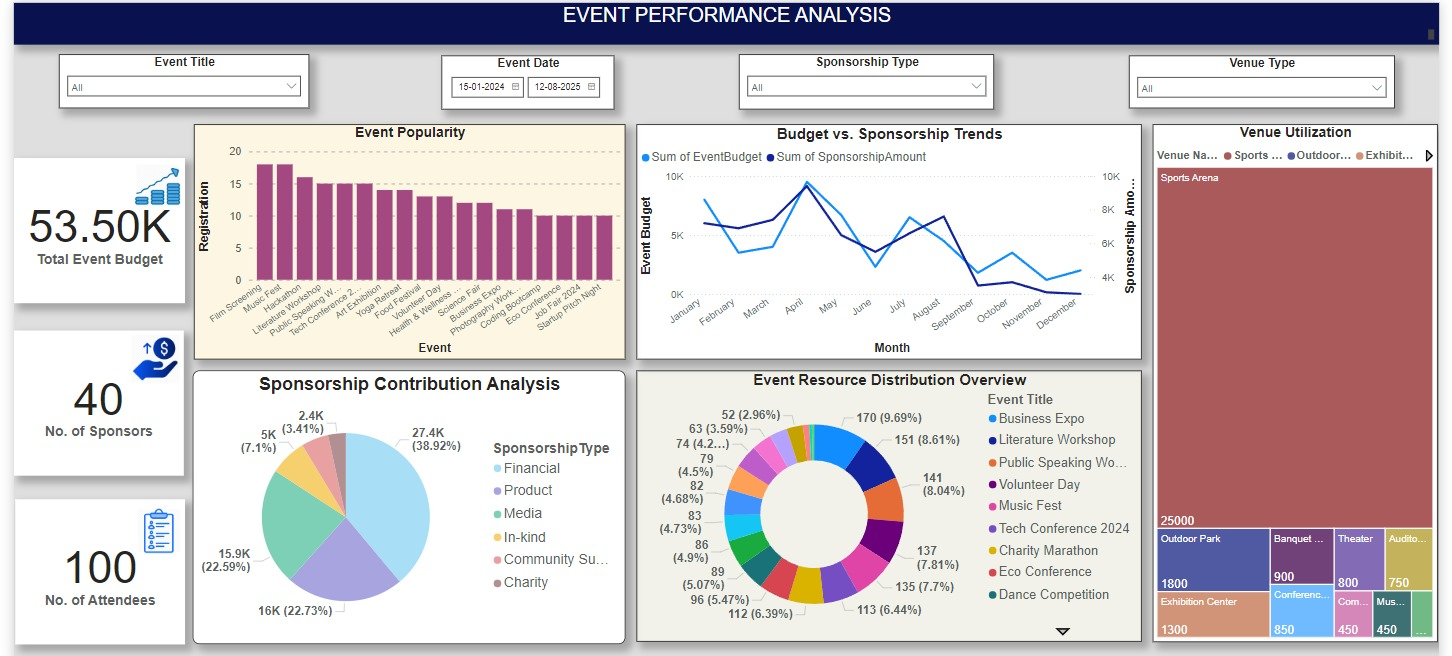

Layout of this report page (visuals, bound fields, positions):
{"tool":"powerbi","page":{"name":"Dashboard","canvas":[1900,880],"ordinal":5},"visuals":[{"type":"textbox","title":" EVENT PERFORMANCE ANALYSIS","box":[0,0,1900,55],"z":0},{"type":"slicer","title":"Event Title","fields":{"Values":["Event.EventTitle"]},"box":[59.3,68.5,333.3,72.2],"z":1000},{"type":"slicer","title":"Venue Type","fields":{"Values":["VenueType.VenueTypeName"]},"box":[1486,70,354,70],"z":2000},{"type":"slicer","title":"Event Date","fields":{"Values":["Event.StartDate"]},"box":[570,70,230,71.7],"z":3000},{"type":"slicer","title":"Sponsorship Type","fields":{"Values":["EventSponsor.SponsorshipType"]},"box":[966.7,68.3,340,73.3],"z":4000},{"type":"card","fields":{"Values":["Sum(Event.EventBudget)"]},"box":[0,206.7,228.3,193.3],"z":5000},{"type":"card","title":"Count Of Attendee","fields":{"Values":["CountNonNull(Attendance.AttendanceID)"]},"box":[1.7,661.7,226.7,193.3],"z":6000},{"type":"card","fields":{"Values":["CountNonNull(EventSponsor.SponsorID)"]},"box":[0,436.7,226.7,193.3],"z":7000},{"type":"image","box":[158.3,661.7,70,83.3],"z":8000},{"type":"image","box":[156.7,198.3,70,91.7],"z":9000},{"type":"image","box":[150,403.3,76.7,141.7],"z":10000},{"type":"donutChart","title":"Event Resource Distribution Overview","fields":{"Y":["Sum(EventResourceAllocation.AllocatedQuantity)"],"Category":["Event.EventTitle"]},"box":[830,490,673.3,361.7],"z":11000},{"type":"lineChart","title":"Budget vs. Sponsorship Trends","fields":{"Y":["Sum(Event.EventBudget)"],"Category":["Event.EndDate.Variation.Date Hierarchy.Month"],"Y2":["Sum(EventSponsor.SponsorshipAmount)"]},"box":[830,161.7,673.3,313.3],"z":12000},{"type":"columnChart","title":"Event Popularity","fields":{"Category":["Event.EventTitle"],"Y":["CountNonNull(Registration.RegistrationID)"]},"box":[240,161.7,575,313.3],"z":13000},{"type":"treemap","title":"Venue Utilization","fields":{"Values":["Sum(Venue.VenueCapacity)"],"Group":["VenueType.VenueTypeName"]},"box":[1518.3,161.7,380,690],"z":14000},{"type":"pieChart","title":"Sponsorship Contribution Analysis","fields":{"Category":["EventSponsor.SponsorshipType"],"Y":["Sum(EventSponsor.SponsorshipAmount)"]},"box":[238.3,490,576.7,365],"z":15000}]}

Visuals, with their boxes in screenshot pixels (x1, y1, x2, y2), scaled from the page's 1900x880 canvas onto the 1452x656 screenshot:
" EVENT PERFORMANCE ANALYSIS" textbox: bbox=(0, 0, 1451, 41)
"Event Title" slicer: bbox=(45, 51, 300, 105)
"Venue Type" slicer: bbox=(1136, 52, 1406, 104)
"Event Date" slicer: bbox=(436, 52, 611, 106)
"Sponsorship Type" slicer: bbox=(739, 51, 999, 106)
card - Sum(Event.EventBudget): bbox=(0, 154, 174, 298)
"Count Of Attendee" card: bbox=(1, 493, 175, 637)
card - CountNonNull(EventSponsor.SponsorID): bbox=(0, 326, 173, 470)
image: bbox=(121, 493, 174, 555)
image: bbox=(120, 148, 173, 216)
image: bbox=(115, 301, 173, 406)
"Event Resource Distribution Overview" donutChart: bbox=(634, 365, 1149, 635)
"Budget vs. Sponsorship Trends" lineChart: bbox=(634, 121, 1149, 354)
"Event Popularity" columnChart: bbox=(183, 121, 623, 354)
"Venue Utilization" treemap: bbox=(1160, 121, 1451, 635)
"Sponsorship Contribution Analysis" pieChart: bbox=(182, 365, 623, 637)
